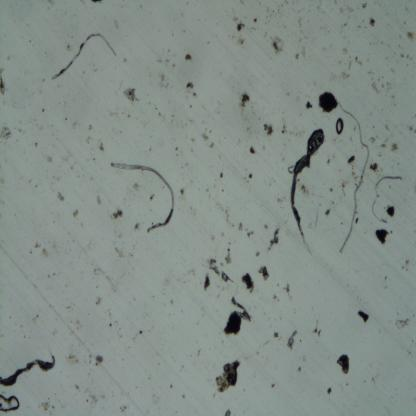Air bubble: (0, 391, 20, 412), (335, 116, 345, 134)
Background material: (224, 298, 249, 342), (206, 253, 237, 284), (217, 360, 242, 396), (338, 55, 360, 82), (318, 92, 338, 116), (74, 384, 97, 404), (336, 352, 352, 376), (366, 70, 382, 94), (239, 274, 258, 294), (120, 86, 141, 104), (373, 225, 388, 249), (90, 264, 110, 280), (32, 242, 48, 260), (39, 395, 55, 413), (237, 92, 251, 112), (271, 36, 285, 56), (270, 227, 282, 248), (287, 330, 299, 350), (395, 316, 412, 330), (0, 67, 7, 100), (0, 122, 12, 141), (337, 177, 349, 196), (262, 121, 276, 136), (232, 19, 247, 33), (224, 210, 235, 229), (313, 318, 322, 340), (112, 247, 127, 260), (158, 74, 170, 90), (183, 50, 195, 66), (258, 264, 269, 281), (288, 127, 304, 138), (280, 114, 288, 136), (111, 208, 125, 220), (357, 309, 369, 322), (300, 184, 311, 198), (94, 353, 104, 368), (347, 155, 357, 170), (67, 352, 77, 366), (232, 35, 244, 46), (95, 190, 103, 206), (154, 58, 170, 66), (204, 275, 212, 291), (74, 319, 83, 333), (225, 247, 232, 265), (390, 142, 400, 154), (56, 190, 66, 202), (370, 162, 380, 174), (108, 309, 114, 328), (285, 283, 292, 299), (92, 295, 102, 306), (344, 2, 354, 13), (185, 82, 196, 92), (119, 402, 128, 414), (300, 44, 308, 57), (132, 222, 142, 232), (108, 108, 118, 118), (406, 28, 415, 39), (401, 260, 410, 271), (194, 344, 201, 358), (178, 189, 186, 201), (249, 144, 257, 156), (400, 53, 412, 61), (72, 207, 80, 218), (98, 140, 105, 152), (306, 101, 314, 111), (87, 0, 102, 5), (132, 181, 140, 190), (272, 293, 280, 302), (202, 132, 209, 142), (370, 17, 375, 30), (278, 198, 286, 206), (148, 193, 156, 201), (223, 408, 231, 416), (300, 354, 308, 362), (272, 332, 280, 340), (190, 207, 197, 216), (86, 133, 92, 143), (247, 172, 254, 180), (289, 164, 294, 175), (114, 20, 119, 31), (326, 386, 332, 395), (325, 207, 331, 216), (219, 169, 224, 179), (338, 7, 345, 14), (251, 18, 259, 24), (254, 250, 260, 258), (298, 18, 304, 26), (342, 46, 348, 54), (248, 229, 254, 237), (169, 296, 174, 305), (191, 92, 198, 98), (189, 118, 195, 125), (382, 141, 388, 148), (326, 159, 332, 166), (88, 123, 93, 131), (339, 24, 343, 34), (72, 122, 77, 130), (191, 136, 196, 144), (362, 2, 367, 10), (209, 141, 214, 149), (295, 53, 299, 62), (138, 329, 144, 335), (409, 127, 415, 133), (372, 136, 376, 145), (270, 384, 276, 390), (238, 224, 243, 231), (264, 222, 269, 229), (176, 145, 180, 152), (50, 158, 54, 165), (41, 107, 46, 112), (157, 112, 162, 117), (262, 144, 266, 150), (221, 231, 225, 237), (35, 140, 38, 148), (344, 20, 348, 26), (218, 154, 222, 160), (213, 233, 216, 241), (334, 0, 338, 6), (356, 218, 360, 223), (128, 113, 132, 118), (172, 63, 176, 68), (190, 148, 194, 153), (65, 117, 69, 121), (357, 24, 361, 28), (170, 383, 173, 388), (318, 6, 321, 10), (331, 186, 333, 192), (190, 104, 192, 108)
Cellulose filter fibre: (337, 104, 370, 254), (288, 129, 324, 247), (49, 33, 116, 82), (0, 352, 57, 387), (369, 173, 404, 222)
Microfibre: (109, 160, 174, 232)
